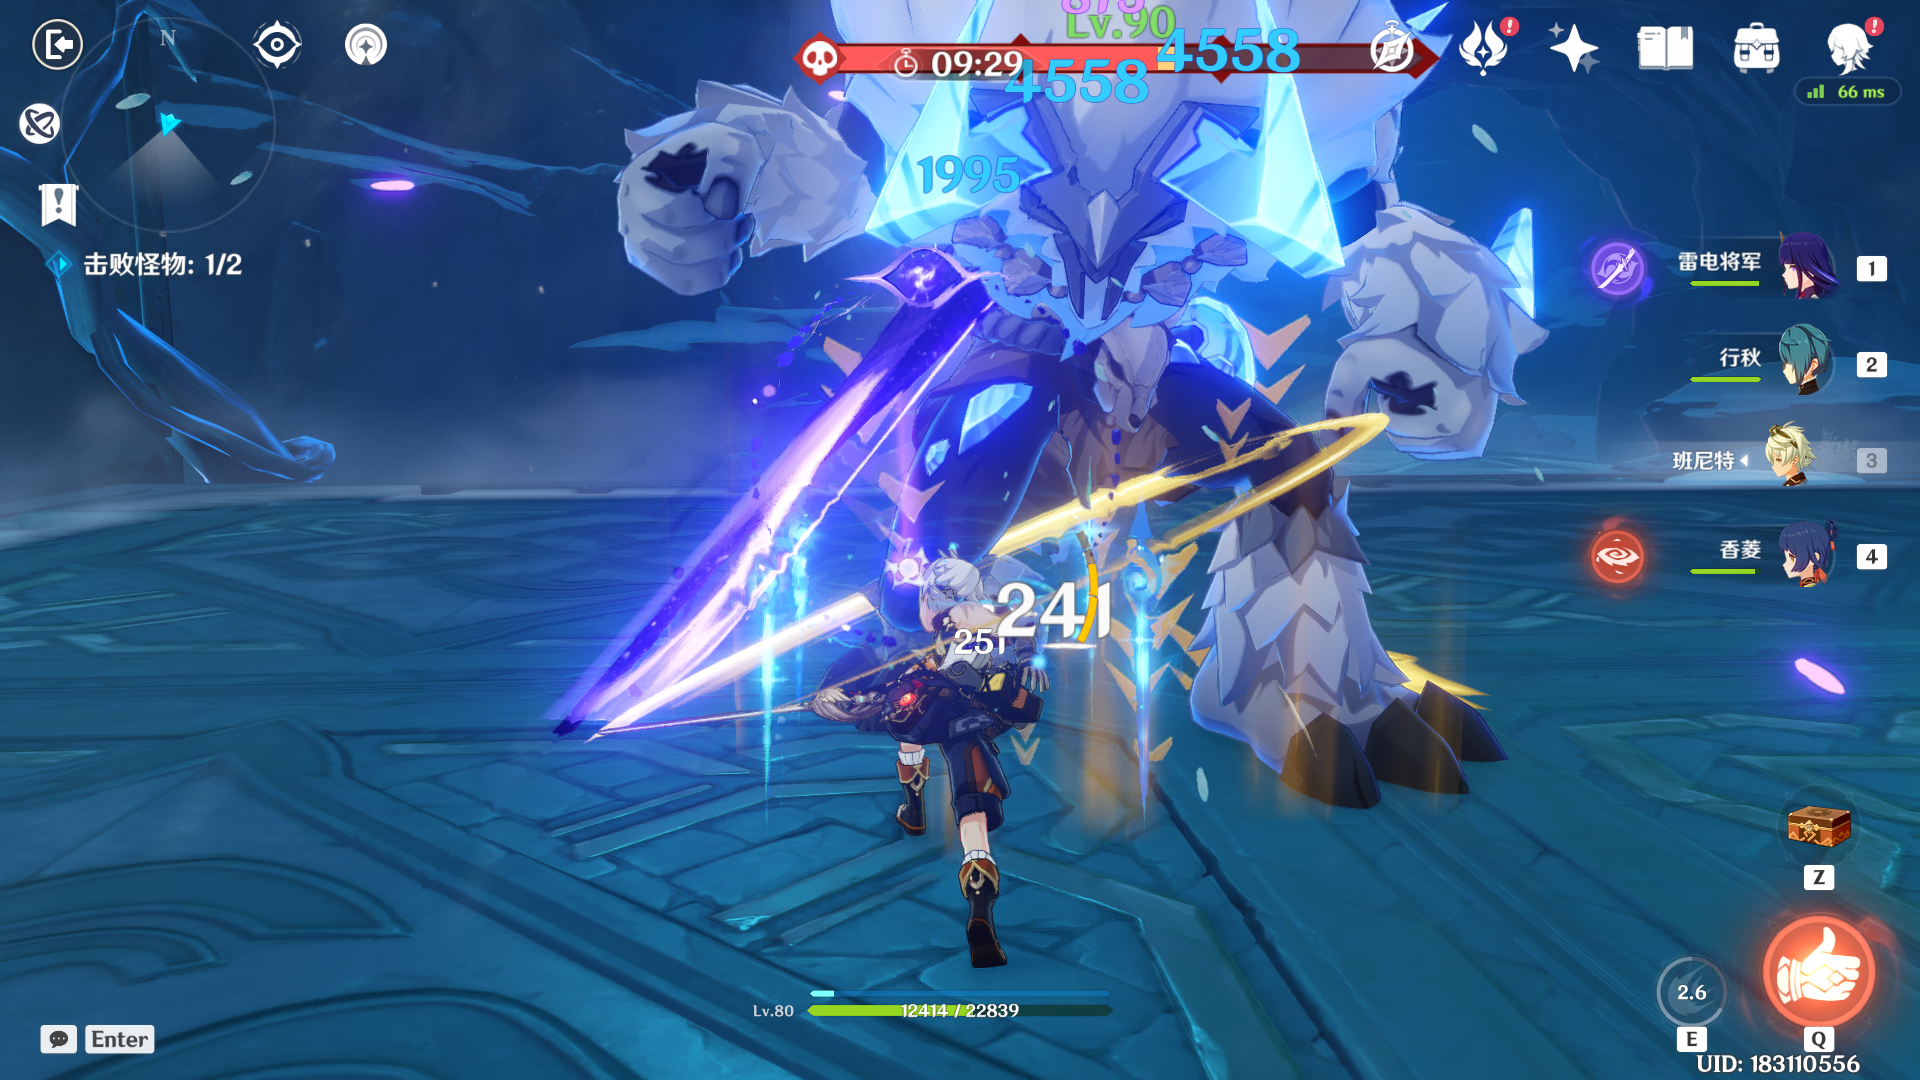bosshili: (520, 1, 1590, 862)
character: (808, 514, 1072, 992)
